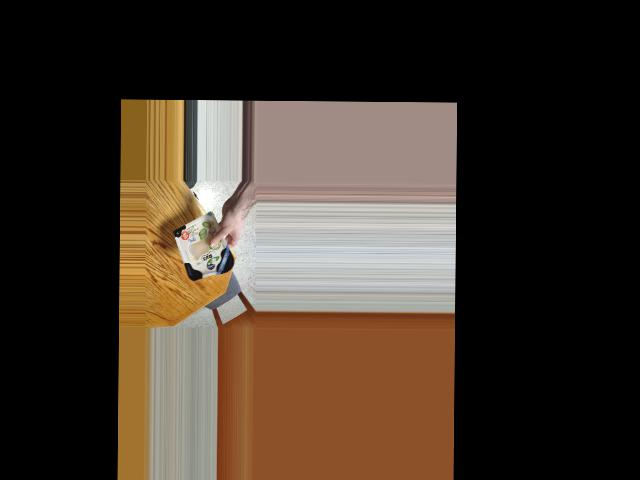cheese: (175, 222, 232, 284)
